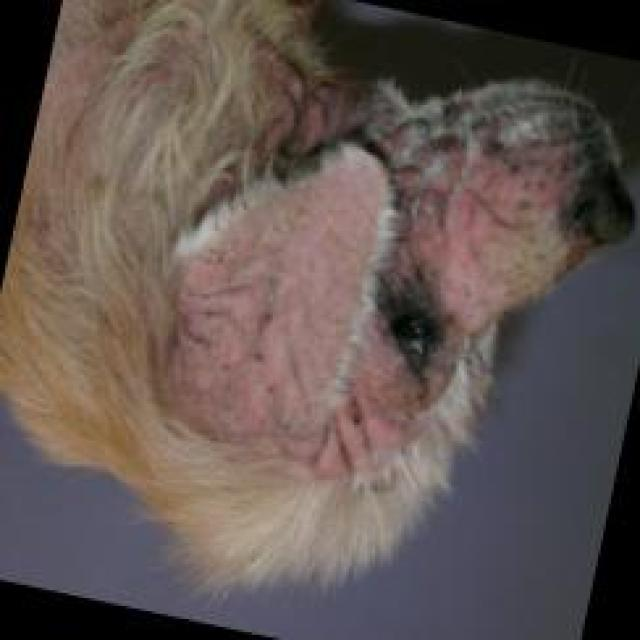allergic dermatitis: (160, 151, 367, 487), (412, 147, 563, 216), (409, 192, 494, 298), (344, 358, 418, 449)
